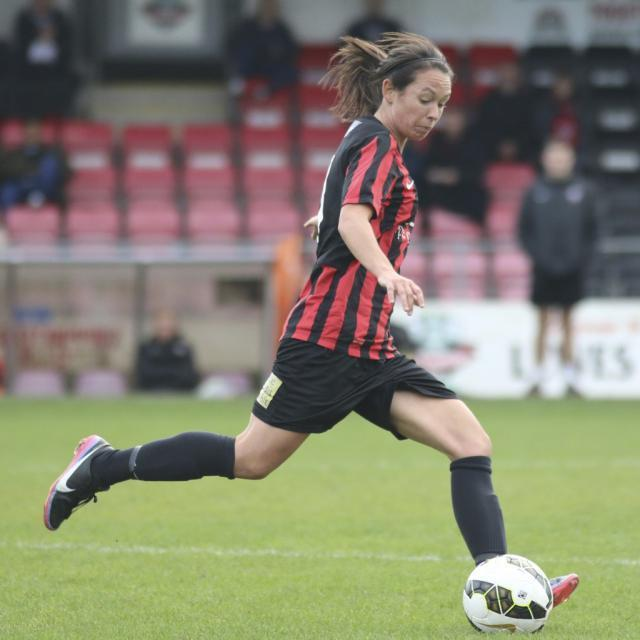football: (438, 542, 578, 639)
